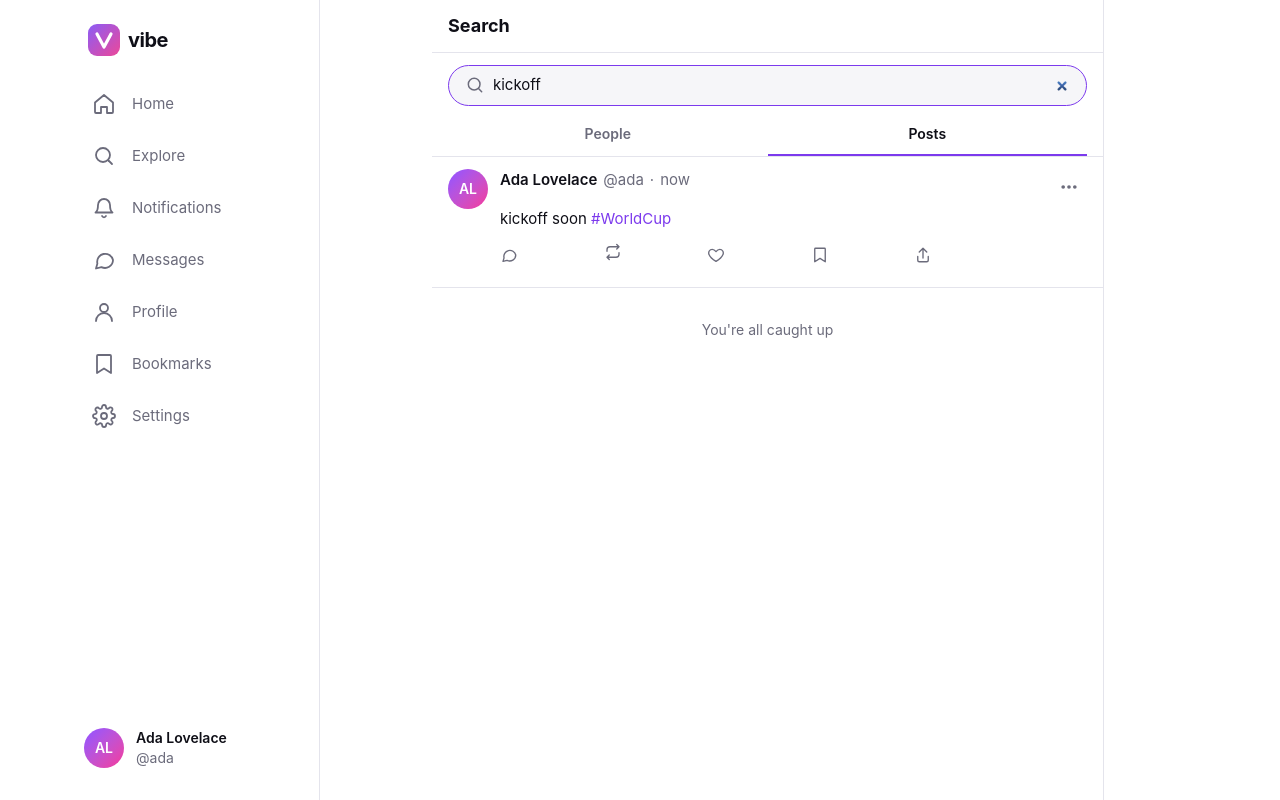
Scenario: post search and hashtags › turns hashtags in posts into links to the hashtag page
The image size is (1280, 800).
Step 1. Click the link "#WorldCup" → click(631, 218), box [591,208,671,228]
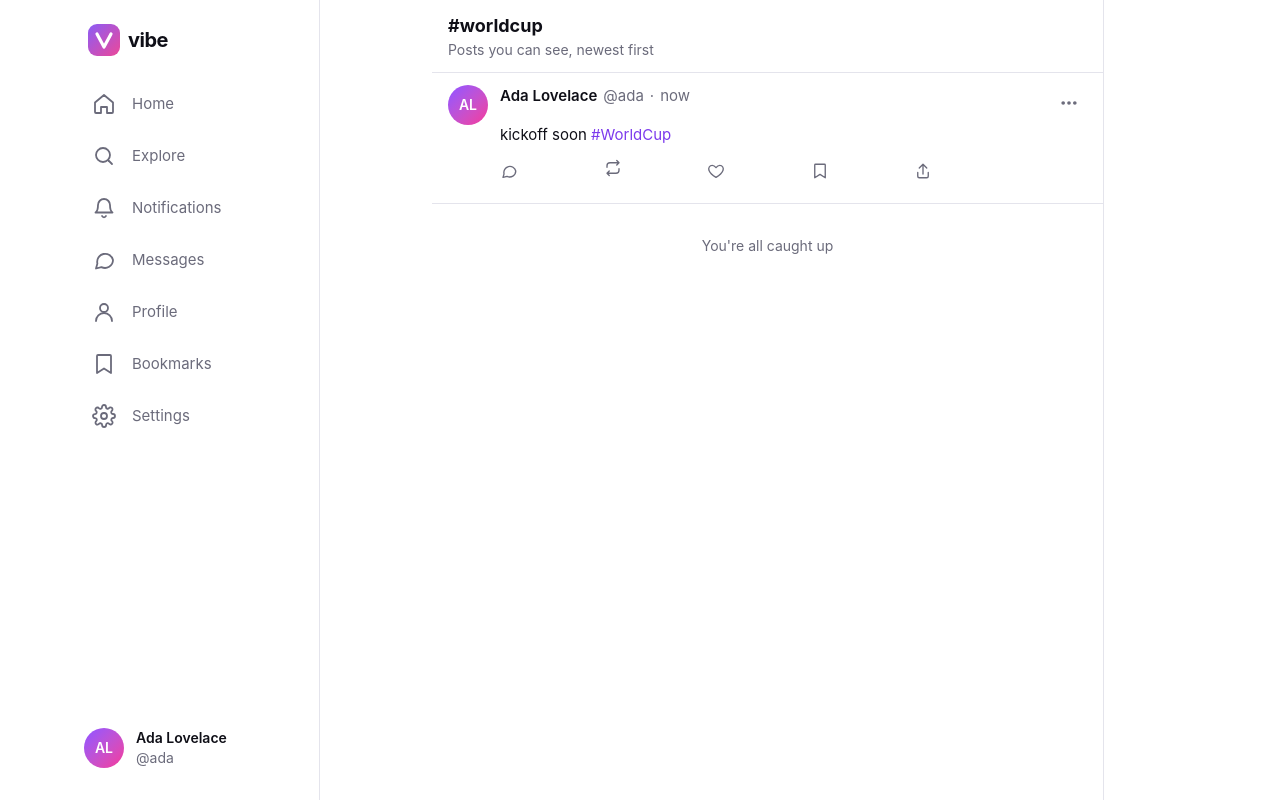
expect the text "kickoff soon #WorldCup" is shown: met, box [500,125,671,144]
expect the heading "#worldcup" is shown: met, box [448,15,543,36]
